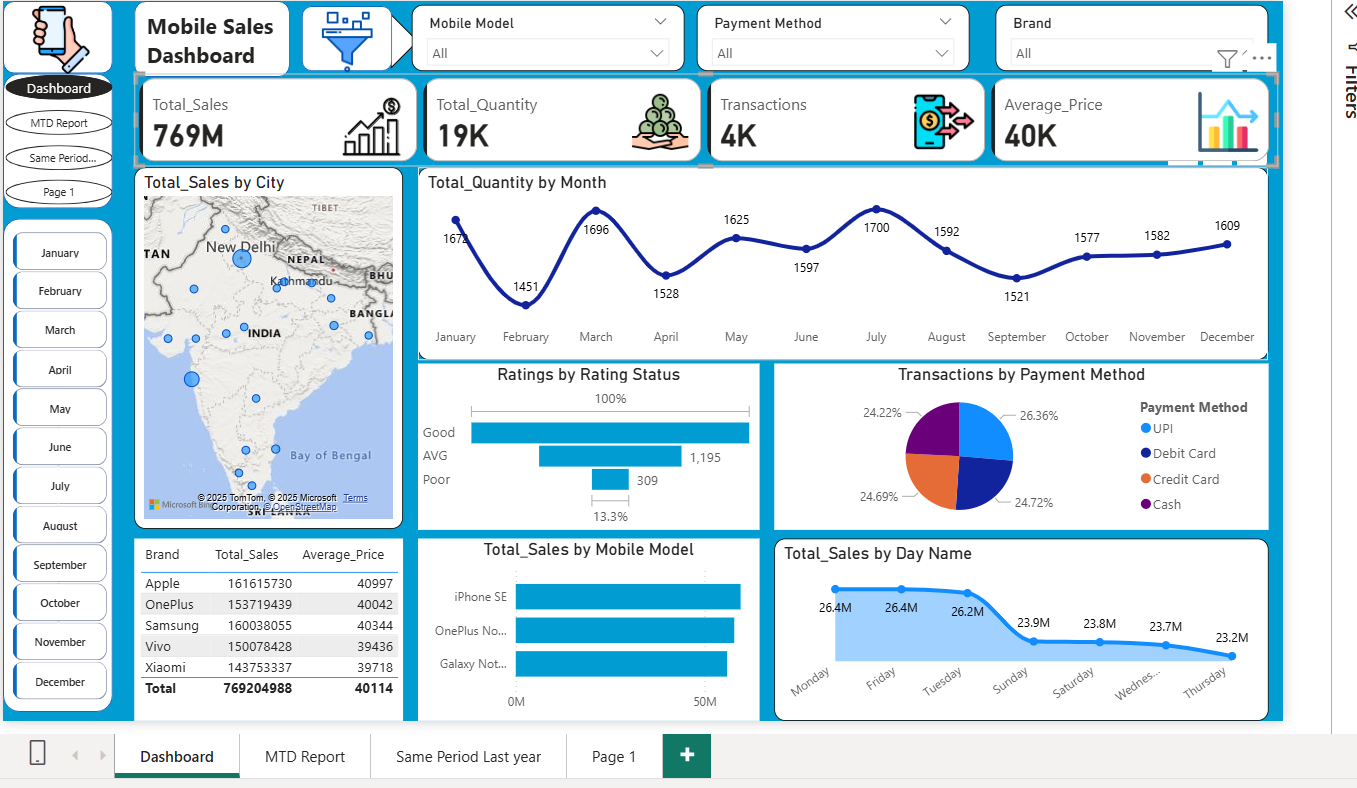

This screenshot's page, from the dashboard's own definition file:
{"tool":"powerbi","page":{"name":"Dashboard","canvas":[1280,720],"ordinal":0},"visuals":[{"type":"shape","box":[0,0,109.8,72.4],"z":0},{"type":"shape","box":[0,72.4,109.8,135.1],"z":1000},{"type":"shape","box":[0,217.2,109.8,493.4],"z":2000},{"type":"advancedSlicerVisual","fields":{"Values":["Custom_Calendar.Date.Variation.Date Hierarchy.Month"]},"box":[4.8,226.8,105,483.8],"z":3000},{"type":"cardVisual","fields":{"Data":["Mobile_Sales.Total_Sales","Mobile_Sales.Total_Quantity","Mobile_Sales.Transactions","Mobile_Sales.Average_Price"]},"box":[131.2,72.5,1143.8,93.8],"z":4000},{"type":"shape","box":[355.9,12.1,59.1,55.5],"z":5000},{"type":"slicer","fields":{"Values":["Mobile_Sales.Mobile Model"]},"box":[409,3.6,272.7,66.4],"z":6000},{"type":"slicer","fields":{"Values":["Mobile_Sales.Payment Method"]},"box":[693.7,3.6,272.7,66.4],"z":7000},{"type":"slicer","fields":{"Values":["Mobile_Sales.Brand"]},"box":[992.9,3.6,272.7,66.4],"z":8000},{"type":"shape","box":[299.2,4.8,90.5,65.1],"z":9000},{"type":"image","box":[296.8,4.8,95.3,72.4],"z":10000},{"type":"shape","box":[131.5,0,155.6,76],"z":11000},{"type":"textbox","box":[138.7,4.8,141.2,80.8],"z":12000},{"type":"map","fields":{"Category":["Mobile_Sales.City"],"Size":["Mobile_Sales.Total_Sales"]},"box":[131.5,166.5,269,361.9],"z":13000},{"type":"lineChart","fields":{"Category":["Custom_Calendar.Date.Variation.Date Hierarchy.Month"],"Y":["Mobile_Sales.Total_Quantity"]},"box":[415,166.5,850.5,193],"z":14000},{"type":"funnel","title":"Ratings by Rating Status","fields":{"Y":["CountNonNull(Mobile_Sales.Customer Ratings)"],"Category":["Mobile_Sales.Rating Status"]},"box":[415,361.9,341.4,166.5],"z":15000},{"type":"pieChart","fields":{"Y":["Mobile_Sales.Transactions"],"Category":["Mobile_Sales.Payment Method"]},"box":[770.9,361.9,494.6,166.5],"z":16000},{"type":"clusteredBarChart","fields":{"Category":["Mobile_Sales.Mobile Model"],"Y":["Mobile_Sales.Total_Sales"]},"box":[415,538.1,341.4,182.2],"z":17000},{"type":"areaChart","fields":{"Y":["Mobile_Sales.Total_Sales"],"Category":["Custom_Calendar.Day Name"]},"box":[770.9,538.1,494.6,182.2],"z":18000},{"type":"tableEx","fields":{"Values":["Mobile_Sales.Brand","Mobile_Sales.Total_Sales","Mobile_Sales.Average_Price"]},"box":[131.5,538.1,269,182.2],"z":19000},{"type":"pageNavigator","box":[2.5,73.8,107.5,131.2],"z":19001},{"type":"image","box":[17.5,0,80,77.5],"z":19002}]}

Visuals, with their boxes in screenshot pixels (x1, y1, x2, y2):
shape: left=0, top=0, right=111, bottom=69
shape: left=0, top=69, right=111, bottom=206
shape: left=0, top=216, right=111, bottom=713
advancedSlicerVisual - Custom_Calendar.Date.Variation.Date Hierarchy.Month: left=5, top=225, right=111, bottom=713
cardVisual - Mobile_Sales.Total_Sales x Mobile_Sales.Total_Quantity: left=132, top=70, right=1286, bottom=164
shape: left=359, top=9, right=419, bottom=65
slicer - Mobile_Sales.Mobile Model: left=412, top=0, right=687, bottom=67
slicer - Mobile_Sales.Payment Method: left=700, top=0, right=975, bottom=67
slicer - Mobile_Sales.Brand: left=1001, top=0, right=1276, bottom=67
shape: left=302, top=1, right=393, bottom=67
image: left=299, top=1, right=395, bottom=74
shape: left=133, top=0, right=290, bottom=73
textbox: left=140, top=1, right=282, bottom=83
map - Mobile_Sales.City x Mobile_Sales.Total_Sales: left=133, top=164, right=404, bottom=529
lineChart - Custom_Calendar.Date.Variation.Date Hierarchy.Month x Mobile_Sales.Total_Quantity: left=419, top=164, right=1276, bottom=359
"Ratings by Rating Status" funnel: left=419, top=361, right=763, bottom=529
pieChart - Mobile_Sales.Transactions x Mobile_Sales.Payment Method: left=777, top=361, right=1276, bottom=529
clusteredBarChart - Mobile_Sales.Mobile Model x Mobile_Sales.Total_Sales: left=419, top=539, right=763, bottom=723
areaChart - Mobile_Sales.Total_Sales x Custom_Calendar.Day Name: left=777, top=539, right=1276, bottom=723
tableEx - Mobile_Sales.Brand x Mobile_Sales.Total_Sales: left=133, top=539, right=404, bottom=723
pageNavigator: left=3, top=71, right=111, bottom=203
image: left=18, top=0, right=98, bottom=75
